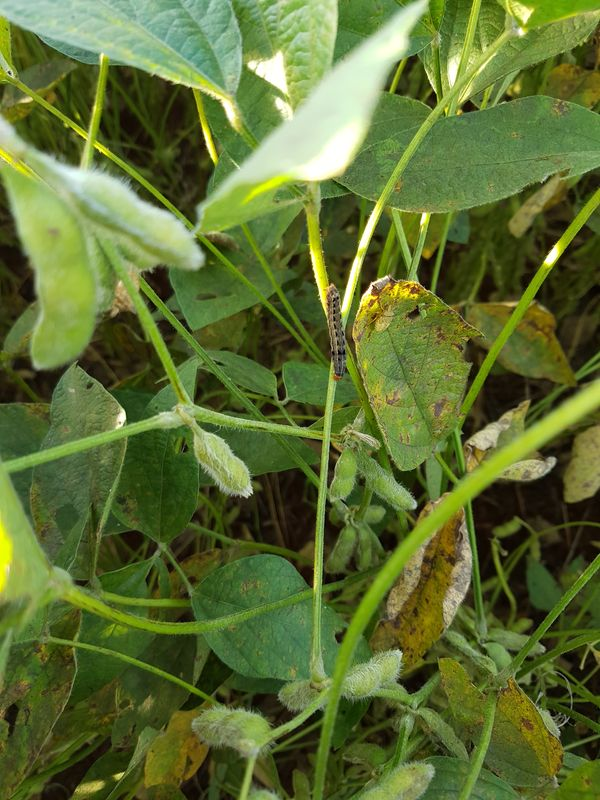Euschistus_heros_ninfa: (364, 299, 401, 340)
Spodoptera_albula: (303, 278, 360, 385)
